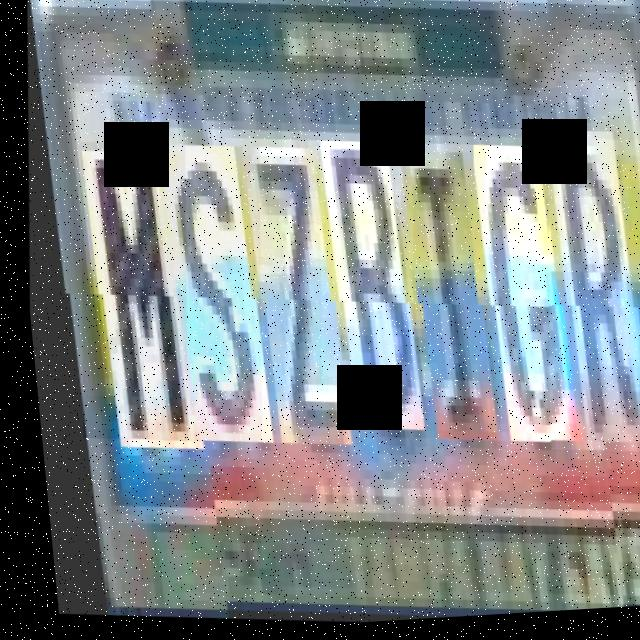B: (291, 140, 430, 438)
G: (444, 146, 584, 453)
I: (371, 152, 505, 449)
M: (51, 137, 204, 447)
R: (517, 140, 640, 465)
S: (131, 141, 279, 450)
Z: (213, 145, 357, 453)
